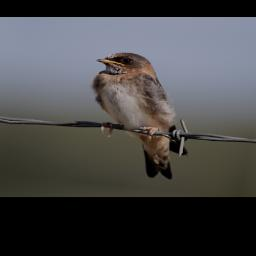Swallow: (73, 48, 207, 181)
